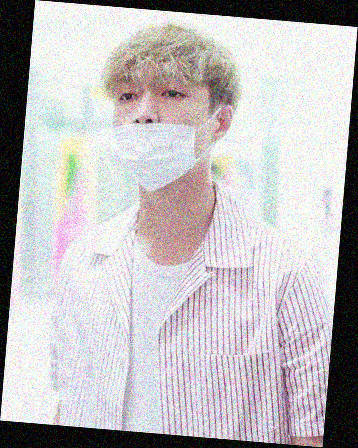mask_weared_incorrect: (107, 82, 209, 195)
